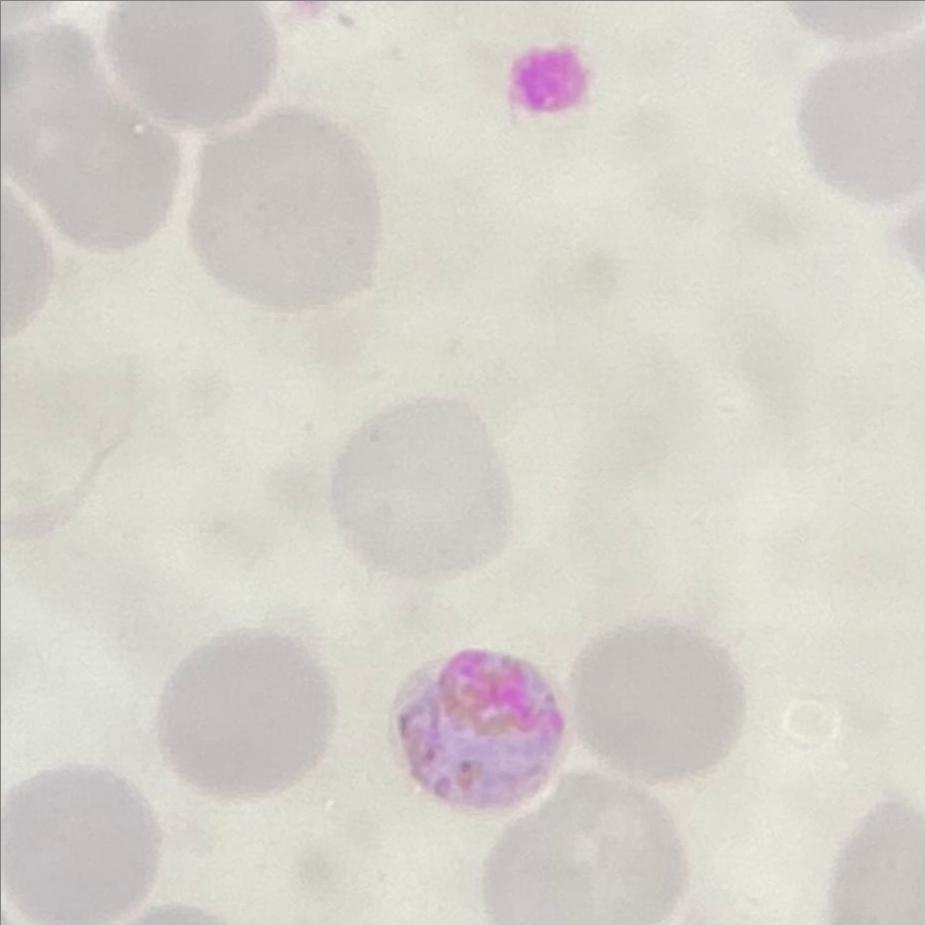Infected: (382, 646, 562, 824)
Uninfected: (0, 13, 181, 254), (192, 108, 382, 315), (338, 398, 507, 584), (153, 633, 331, 807), (490, 771, 686, 925), (572, 618, 744, 786), (0, 766, 156, 925), (798, 23, 925, 215), (102, 0, 274, 134)
